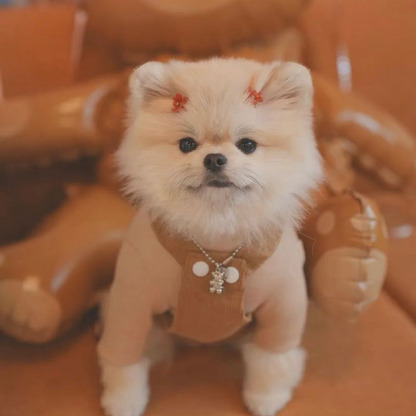Pomeranian: (95, 50, 330, 411)
